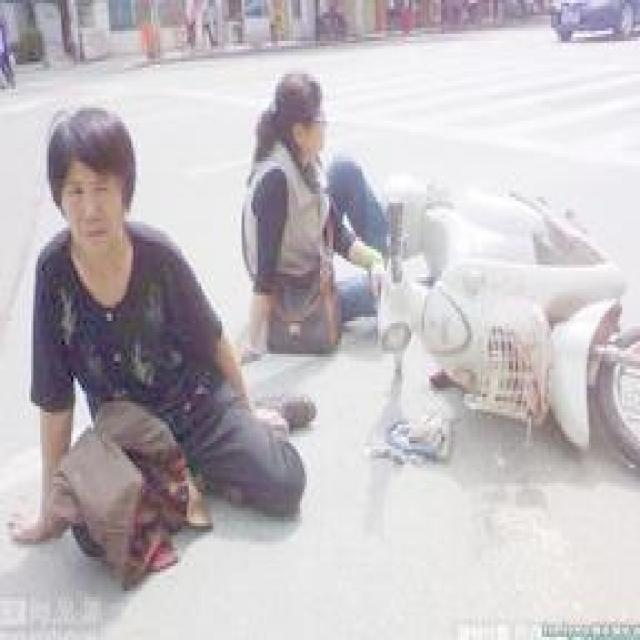fall: (20, 114, 302, 498), (242, 71, 384, 351)
